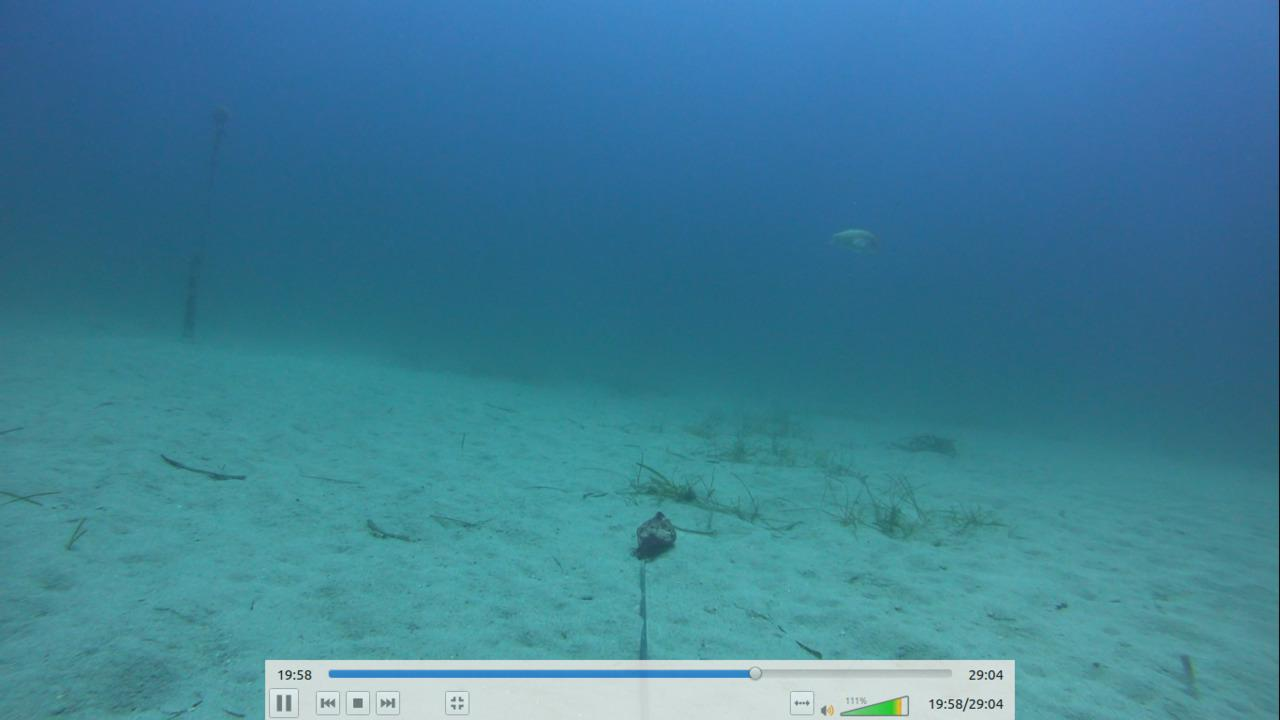raor: (819, 216, 885, 264)
